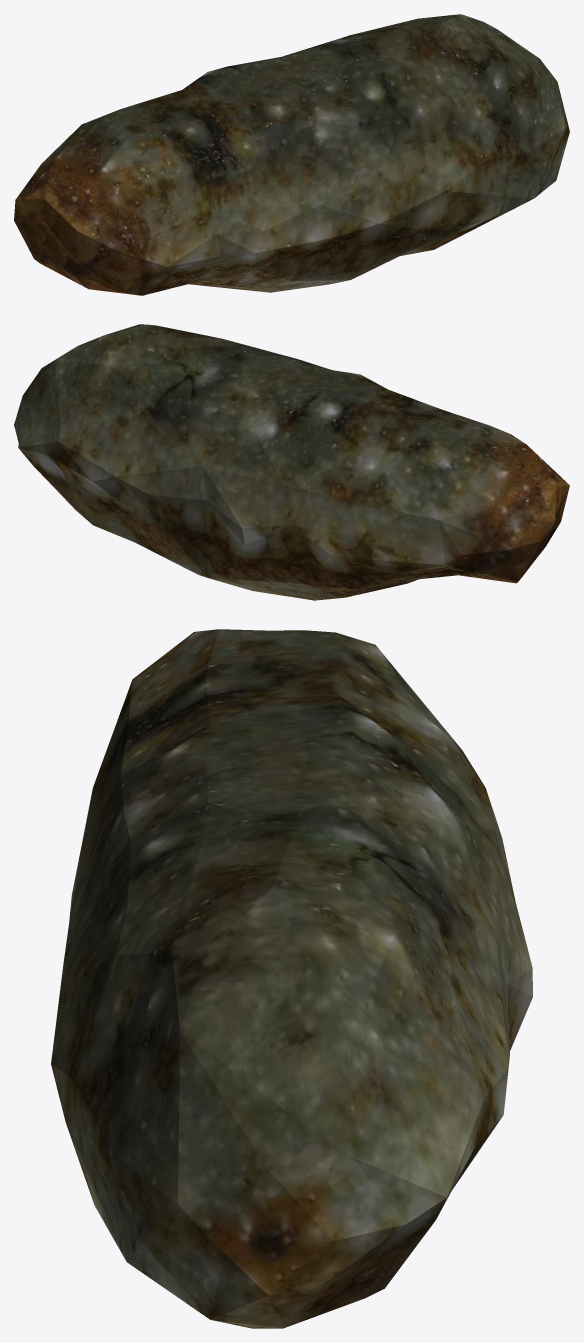
File: cucumber_lo.glb
The picture shows the model from 3 angles, top to bottom: view 1: azimuth 30°, elevation 25°; view 2: azimuth 150°, elevation 25°; view 3: azimuth 270°, elevation 25°; orthographic projection. The views are drawn at different scales.
Parts seen in each view (by area): view 1: cucumber_far; view 2: cucumber_far; view 3: cucumber_far.
Part boxes in pixels (box(x1,y1,x2,y2)): cucumber_far: box(14, 14, 569, 295); cucumber_far: box(14, 324, 569, 600); cucumber_far: box(51, 629, 532, 1328).
Bounding box in the file's own units: 0.2158 × 0.0884 × 0.0849.
1 material, 1 textured.
